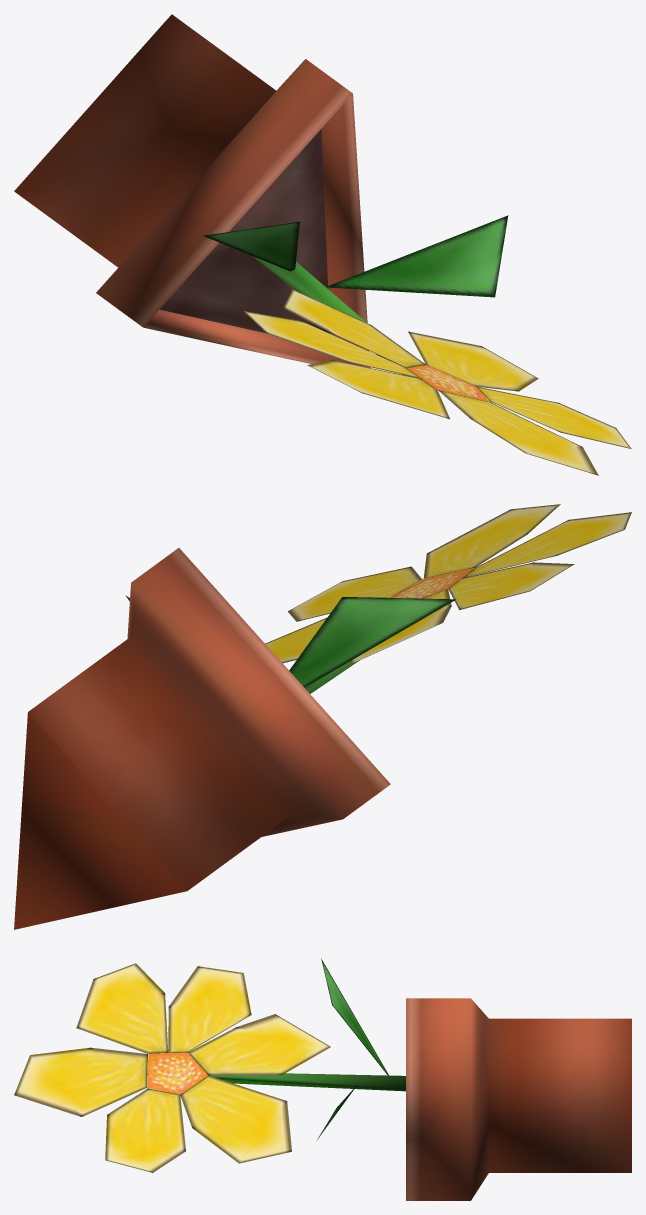
File: flowerpot.glb
The picture shows the model from 3 angles, top to bottom: view 1: azimuth 30°, elevation 25°; view 2: azimuth 150°, elevation 25°; view 3: azimuth 270°, elevation 25°; orthographic projection. The views are drawn at different scales.
Visible parts, largest first — view 1: joint_scale_flowerpot, joint_flower, joint_stem, joint_top_leaf, joint_bottom_leaf; view 2: joint_scale_flowerpot, joint_flower, joint_bottom_leaf; view 3: joint_scale_flowerpot, joint_flower, joint_stem, joint_bottom_leaf.
Part boxes in pixels (bbox=[...]): joint_scale_flowerpot: bbox=[14, 14, 370, 367]; joint_flower: bbox=[244, 289, 631, 475]; joint_stem: bbox=[160, 129, 422, 379]; joint_top_leaf: bbox=[326, 215, 508, 297]; joint_bottom_leaf: bbox=[203, 221, 299, 271]; joint_scale_flowerpot: bbox=[14, 548, 390, 929]; joint_flower: bbox=[265, 504, 631, 663]; joint_bottom_leaf: bbox=[289, 597, 456, 687]; joint_scale_flowerpot: bbox=[406, 998, 631, 1200]; joint_flower: bbox=[14, 963, 330, 1172]; joint_stem: bbox=[201, 1073, 405, 1091]; joint_bottom_leaf: bbox=[321, 958, 388, 1075].
Size of the model in its own units: 1.12 by 0.8846 by 2.52.
5 materials, 5 textured.
